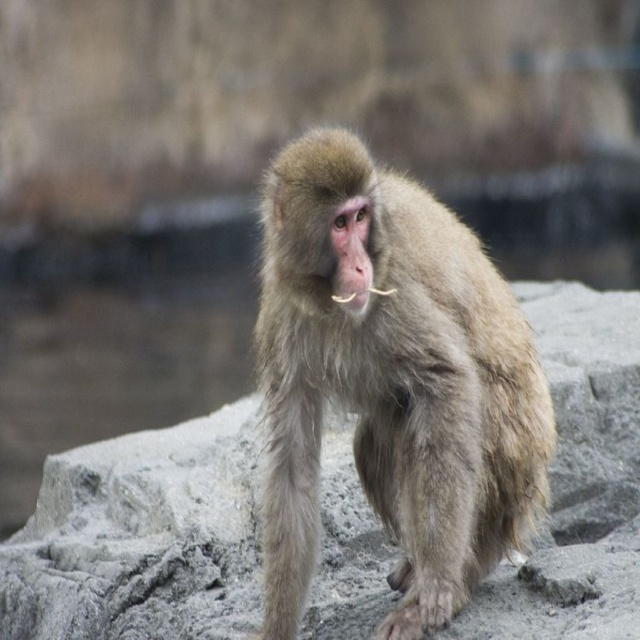Monkey: (247, 121, 562, 639)
